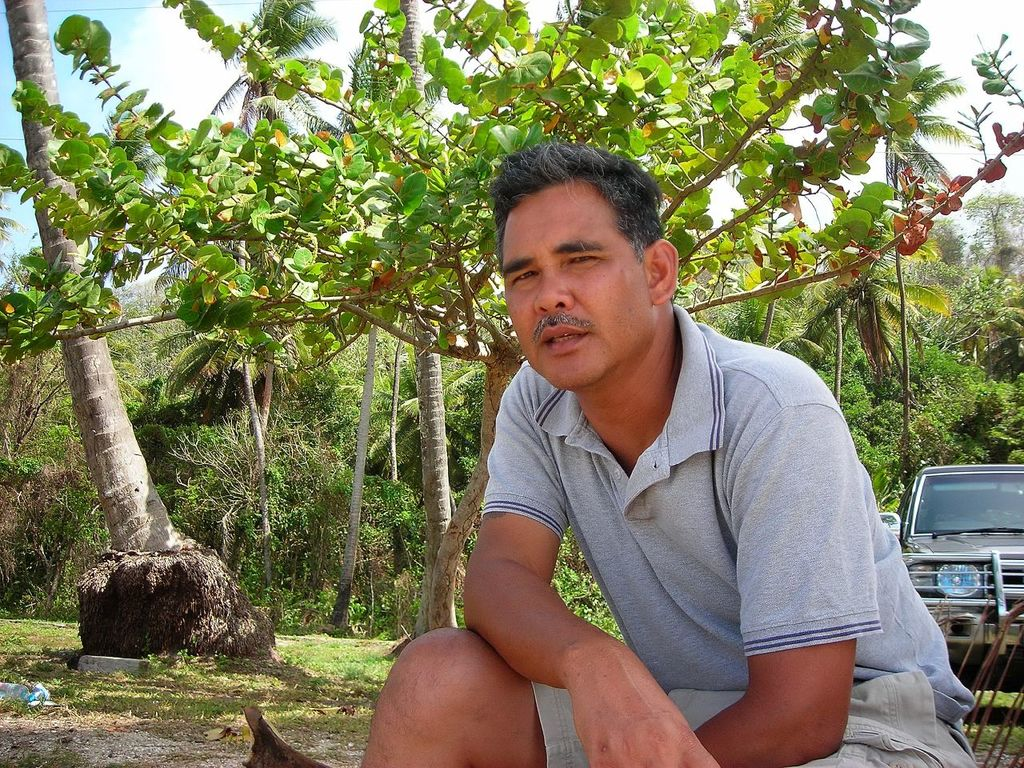Car: (880, 464, 1023, 654)
